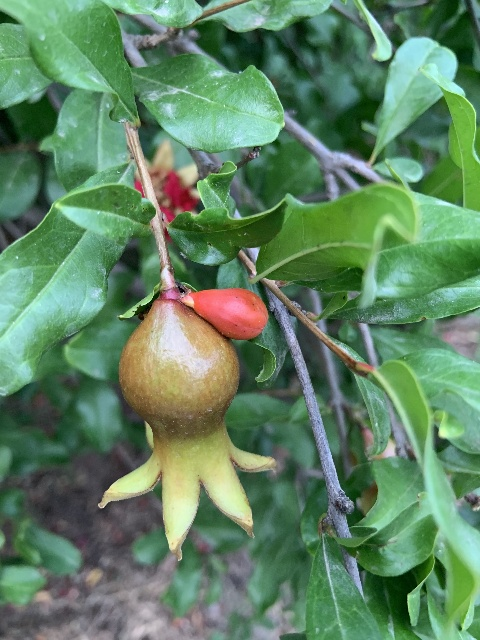bud: (190, 288, 267, 340)
early-fruit: (97, 299, 278, 559)
